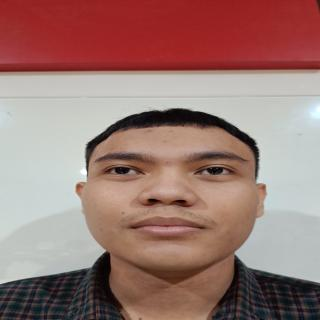Netral: (81, 124, 274, 276)
